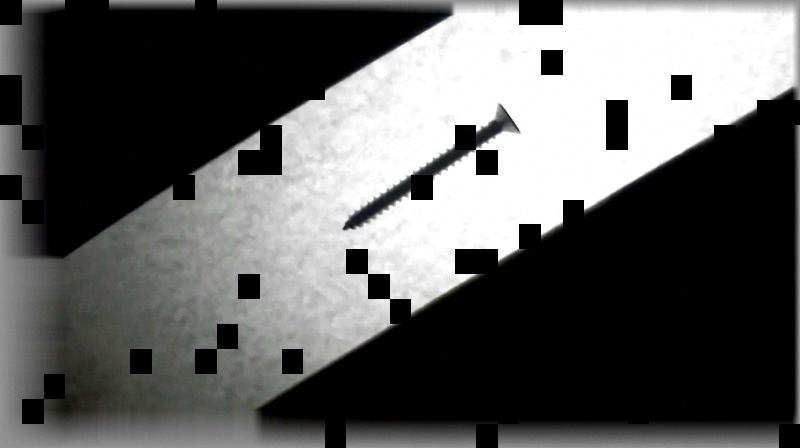S002: (340, 100, 525, 231)
